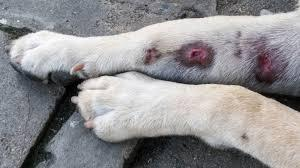infection: (129, 32, 290, 85)
